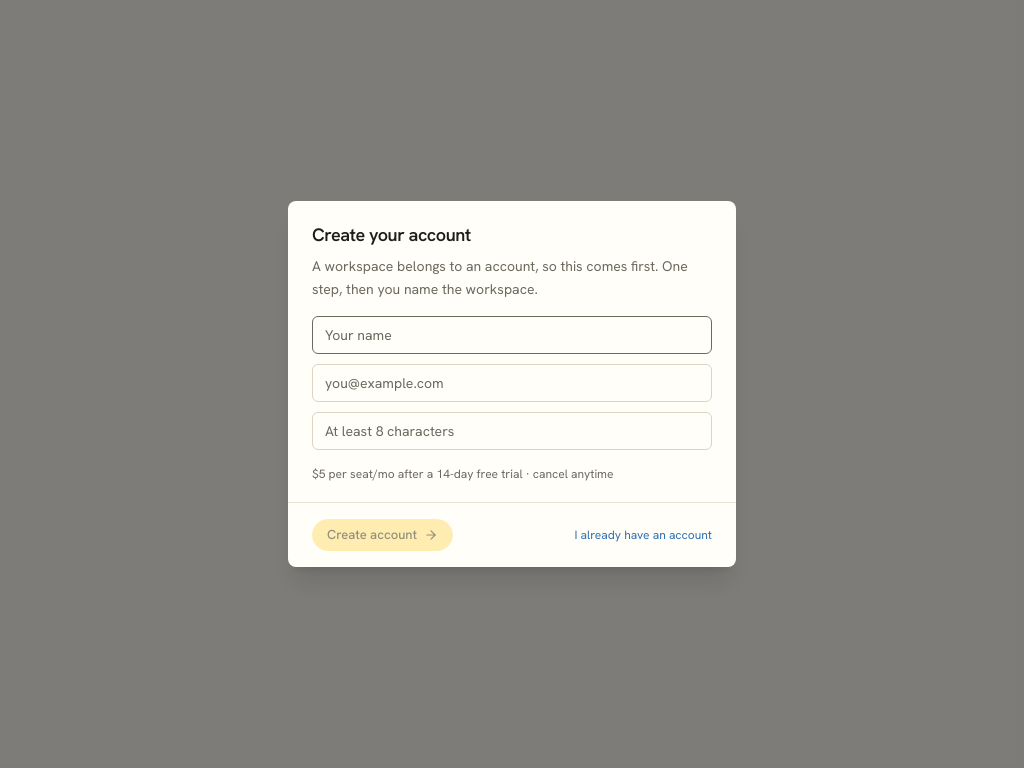
Test: the create-workspace sheet › asks for an account first when signed out, instead of sending you to Settings
This screenshot has width=1024, height=768.
Expected: the heading "Create your account" is shown, [312,223,471,246]
Expected: the field named "email" is shown, [312,364,712,402]
Click the button "I already have an account" at {"x": 643, "y": 535}, box [574,527,712,543]
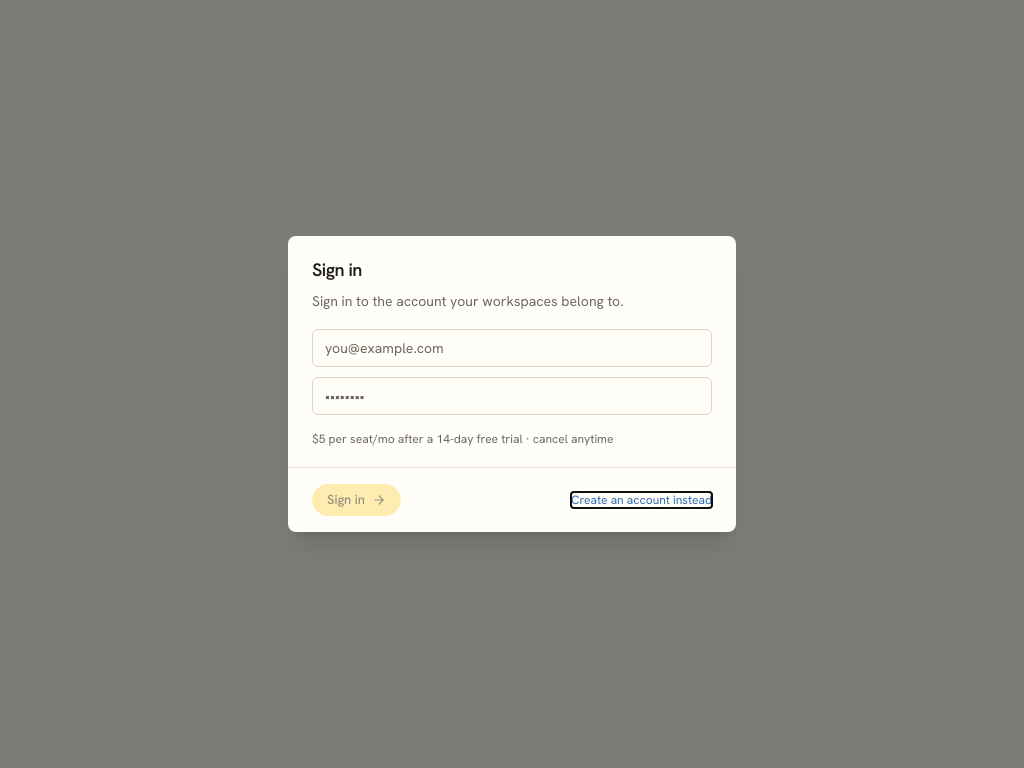
Result: the heading "Sign in" is shown at [312,258,362,281]
